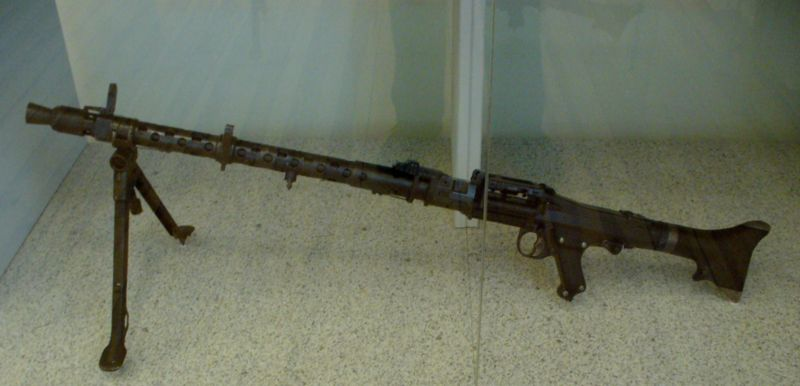rifle: (8, 86, 789, 386)
